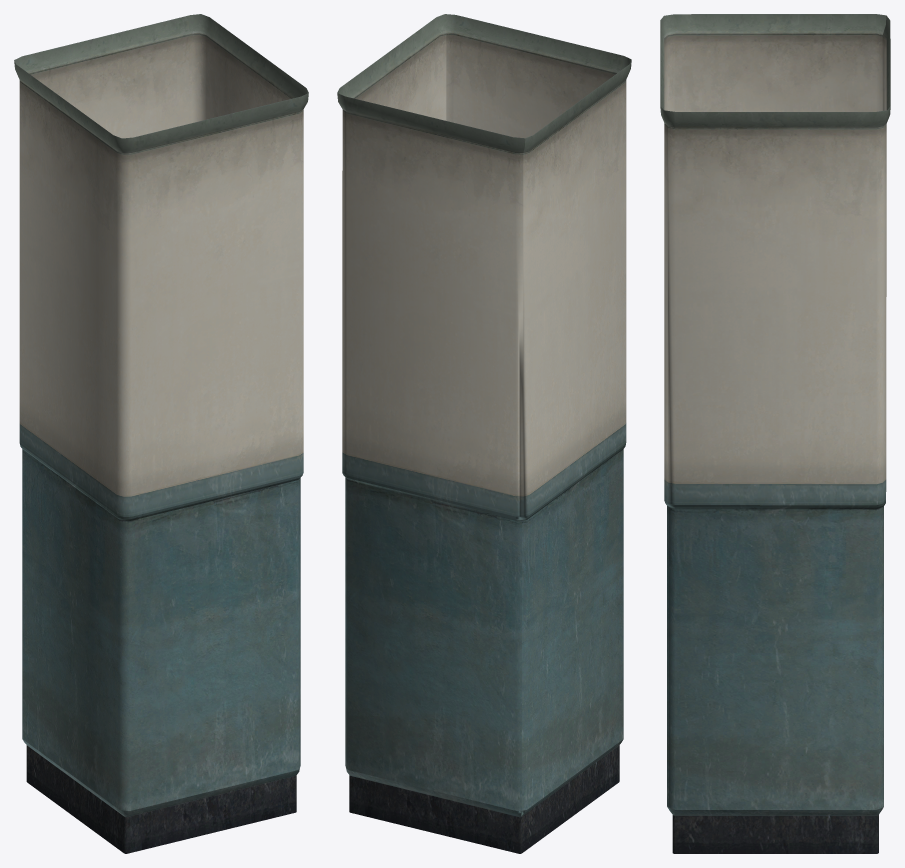
The model's file is scanroom_corridor_wall_post.dae.
3 views of the same model, side by side, from view 1: azimuth 30°, elevation 25°; view 2: azimuth 150°, elevation 25°; view 3: azimuth 270°, elevation 25° (orthographic). The views are drawn at different scales.
Visible parts, largest first — view 1: post; view 2: post; view 3: post.
Part boxes in pixels (<box>): post: <box>14,14,308,853</box>; post: <box>337,14,631,853</box>; post: <box>660,14,890,853</box>.
Bounding box in the file's own units: 112 × 400 × 112.
